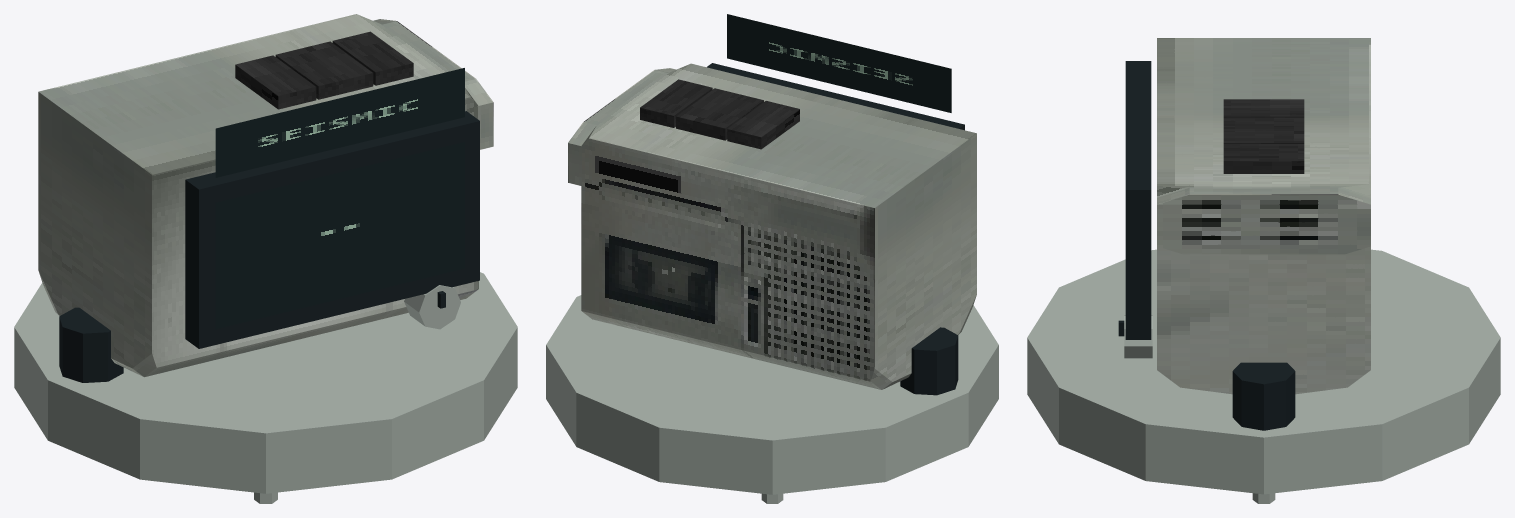
The model's file is blender_seismic_recorder_2.glb.
3 renders of one model, left to right at view 1: azimuth 30°, elevation 25°; view 2: azimuth 150°, elevation 25°; view 3: azimuth 270°, elevation 25°, orthographic. The views are drawn at different scales.
Visible parts, largest first — view 1: blender_seismic_recorder_2; view 2: blender_seismic_recorder_2; view 3: blender_seismic_recorder_2.
Part boxes in pixels (x1,y1,x2,y2): blender_seismic_recorder_2: (14, 14, 517, 503); blender_seismic_recorder_2: (546, 14, 998, 503); blender_seismic_recorder_2: (1027, 38, 1500, 503).
Bounding box in the file's own units: 0.166 × 0.129 × 0.166.
1 material, 1 textured.
